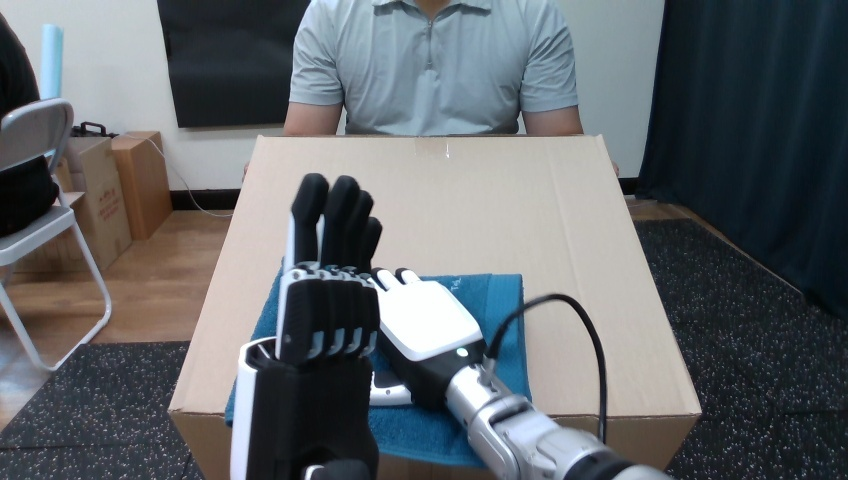left robot hand: (231, 173, 668, 479), (369, 268, 668, 479), (231, 173, 381, 479), (494, 299, 600, 438)
